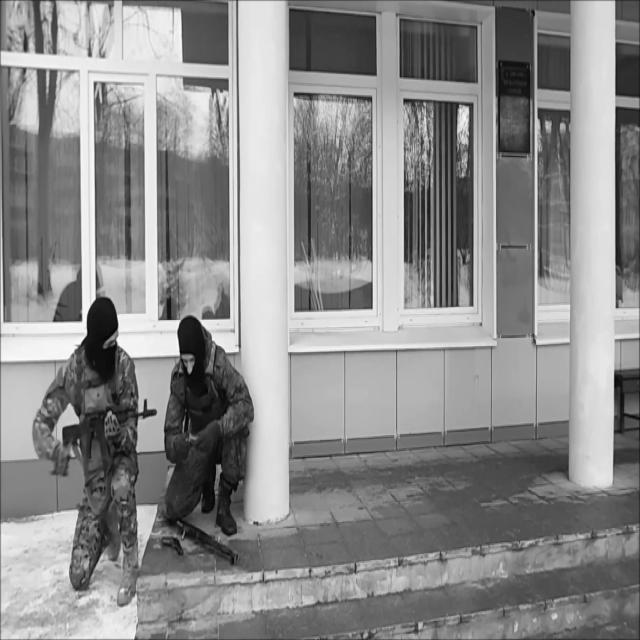gun: (62, 397, 158, 477), (160, 501, 241, 567), (161, 532, 184, 560)
person with a gun: (32, 294, 158, 607), (163, 314, 254, 536)
